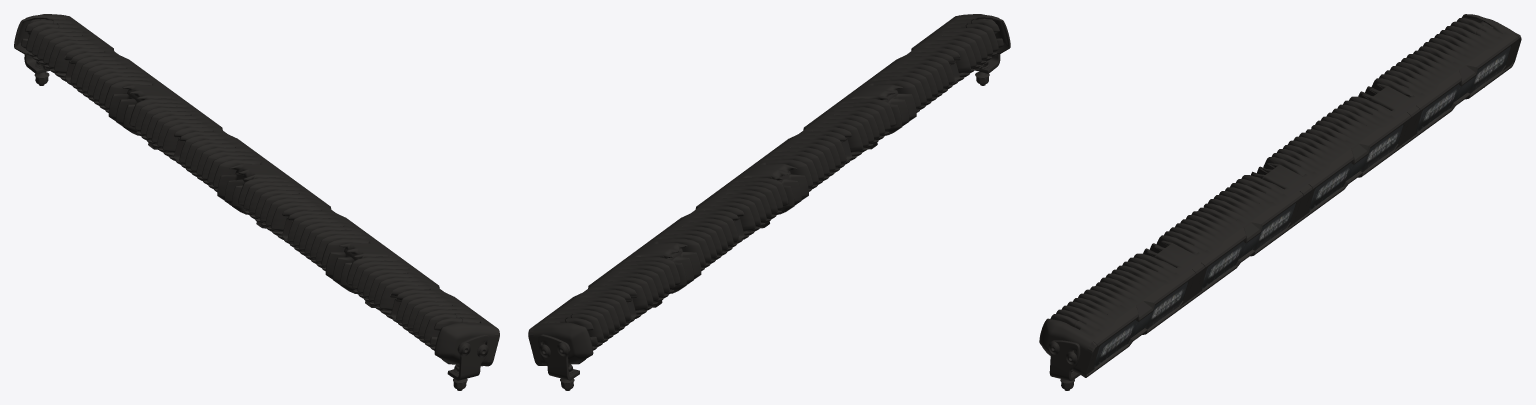
Rendered from light_bar.glb.
3 views of the same model, side by side, from view 1: azimuth 30°, elevation 25°; view 2: azimuth 150°, elevation 25°; view 3: azimuth 330°, elevation 25° (orthographic).
Parts seen in each view (by area): view 1: light_bar; view 2: light_bar; view 3: light_bar.
Part boxes in pixels (x1,y1,x2,y2): light_bar: (14, 14, 499, 390); light_bar: (528, 14, 1010, 390); light_bar: (1039, 14, 1521, 390).
Size of the model in its own units: 0.0981 by 0.1102 by 1.23.
1 material, 1 textured.
